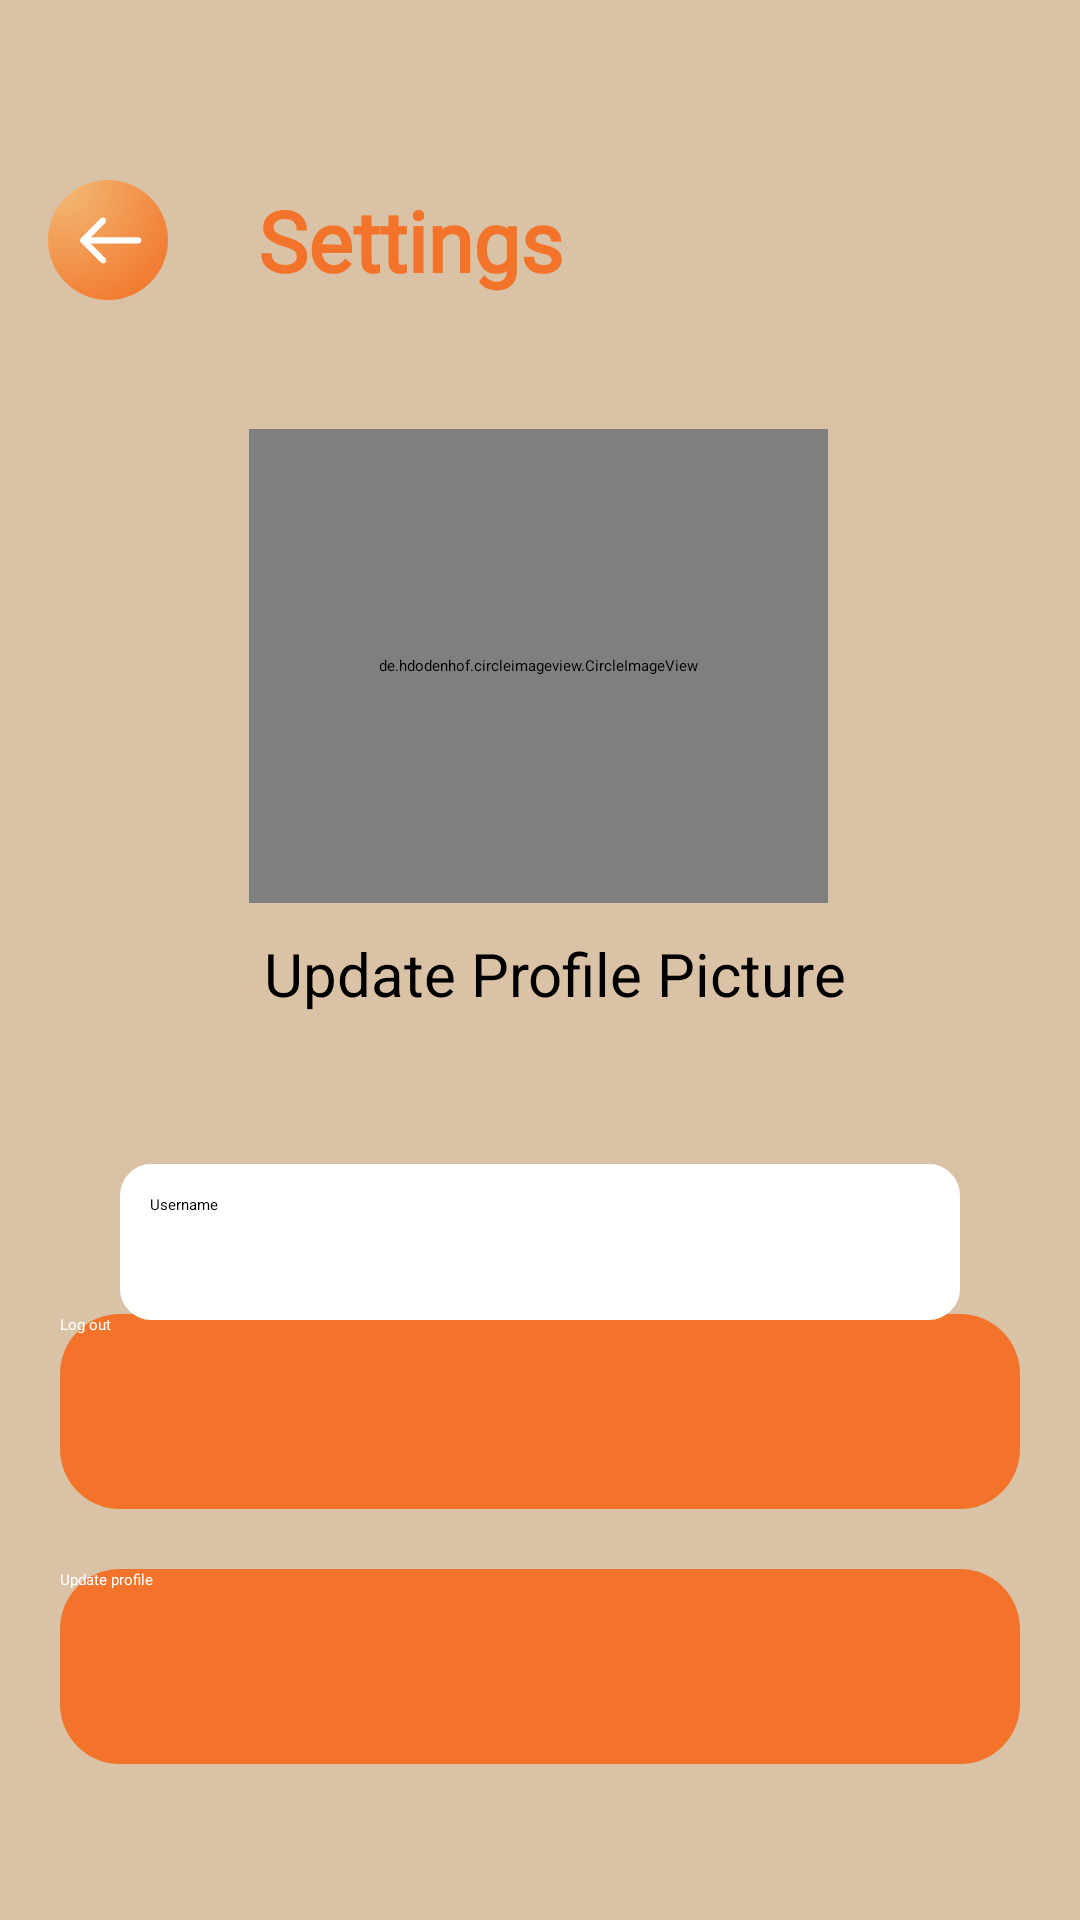

Icons on this 1080w x 1920h Android screen, each with its box as (x1, y1, x2, y2):
back: (48, 180, 168, 300)
